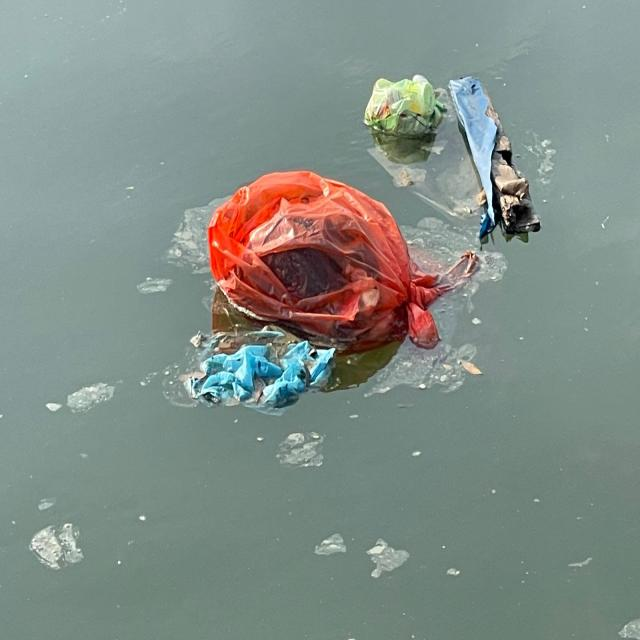Kantong Plastik: (202, 160, 453, 351), (175, 322, 344, 416), (359, 63, 455, 153)
